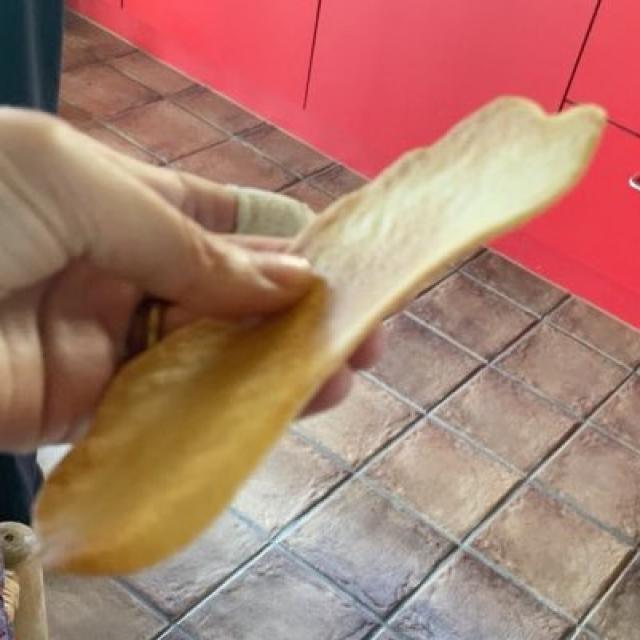grissini: (28, 94, 612, 583)
